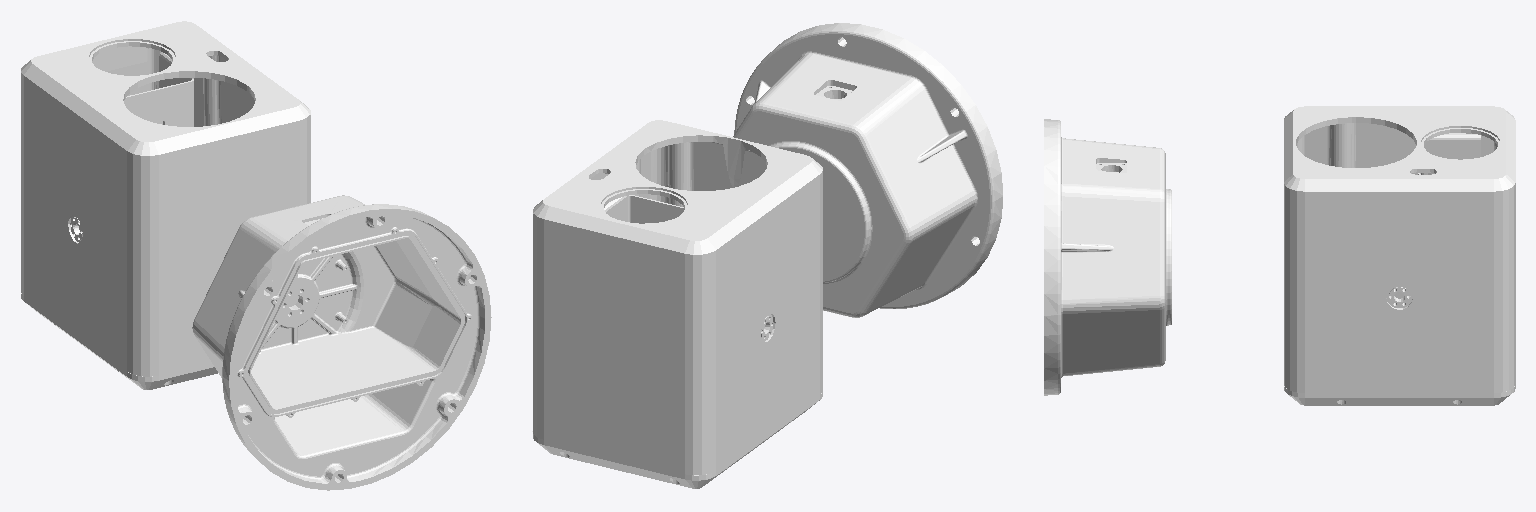
The robot description file, URDF, robot "u_shaped_gimbal":
<?xml version="1.0" encoding="utf-8"?>
<!-- This URDF was automatically created by SolidWorks to URDF Exporter! Originally created by [author] ([email redacted]) 
    Commit Version: 1.6.0-1-g15f4949  Build Version: 1.6.7594.29634
    For more information, please see http://wiki.ros.org/sw_urdf_exporter -->
<robot name="u_shaped_gimbal">
  <link name="base_link">
    <inertial>
      <origin xyz="-5.1149E-05 0.060823 -0.0052465" rpy="0 0 0" />
      <mass value="0.94384" />
      <inertia ixx="0.0055172" ixy="2.4725E-06" ixz="-3.088E-06" iyy="0.008072" iyz="4.4757E-05" izz="0.0055356" />
    </inertial>
    <visual>
      <origin xyz="0 0 0" rpy="0 0 0" />
      <geometry>
        <mesh filename="package://u_shaped_gimbal_description/meshes/base_link.STL" />
      </geometry>
      <material name="">
        <color rgba="1 1 1 1" />
      </material>
    </visual>
    <collision>
      <origin xyz="0 0 0" rpy="0 0 0" />
      <geometry>
        <mesh filename="package://u_shaped_gimbal_description/meshes/base_link.STL" />
      </geometry>
    </collision>
  </link>
  <link name="link_low">
    <inertial>
      <origin xyz="3.7576E-07 0.10889 4.3526E-05" rpy="0 0 0" />
      <mass value="1.7017" />
      <inertia ixx="0.01372" ixy="-2.5357E-06" ixz="4.585E-06" iyy="0.010361" iyz="2.6097E-06" izz="0.016475" />
    </inertial>
    <visual>
      <origin xyz="0 0 0" rpy="0 0 0" />
      <geometry>
        <mesh filename="package://u_shaped_gimbal_description/meshes/link_low.STL" />
      </geometry>
      <material name="">
        <color rgba="1 1 1 1" />
      </material>
    </visual>
    <collision>
      <origin xyz="0 0 0" rpy="0 0 0" />
      <geometry>
        <mesh filename="package://u_shaped_gimbal_description/meshes/link_low.STL" />
      </geometry>
    </collision>
  </link>
  <joint name="joint_low" type="continuous">
    <origin xyz="0 0.121 0" rpy="0 0 0" />
    <parent link="base_link" />
    <child link="link_low" />
    <axis xyz="0 1 0" />
  </joint>
  <link name="link_up">
    <inertial>
      <origin xyz="-7.4103E-05 0.0014057 0.0058493" rpy="0 0 0" />
      <mass value="2.2137" />
      <inertia ixx="0.021433" ixy="3.6375E-06" ixz="1.5475E-05" iyy="0.017841" iyz="-0.00011134" izz="0.023689" />
    </inertial>
    <visual>
      <origin xyz="0 0 0" rpy="0 0 0" />
      <geometry>
        <mesh filename="package://u_shaped_gimbal_description/meshes/link_up.STL" />
      </geometry>
      <material name="">
        <color rgba="1 1 1 1" />
      </material>
    </visual>
    <collision>
      <origin xyz="0 0 0" rpy="0 0 0" />
      <geometry>
        <mesh filename="package://u_shaped_gimbal_description/meshes/link_up.STL" />
      </geometry>
    </collision>
  </link>
  <joint name="joint_up" type="continuous">
    <origin xyz="0 0.216 0" rpy="0 0 0" />
    <parent link="link_low" />
    <child link="link_up" />
    <axis xyz="1 0 0" />
  </joint>
  <link name="link_middle">
    <inertial>
      <origin xyz="-7.7389E-19 0.018017 0.0039837" rpy="0 0 0" />
      <mass value="0.052872" />
      <inertia ixx="0.00010465" ixy="6.7864E-21" ixz="-1.8431E-20" iyy="0.00014676" iyz="-2.558E-06" izz="8.2918E-05" />
    </inertial>
    <visual>
      <origin xyz="0 0 0" rpy="0 0 0" />
      <geometry>
        <mesh filename="package://u_shaped_gimbal_description/meshes/link_middle.STL" />
      </geometry>
      <material name="">
        <color rgba="1 1 1 1" />
      </material>
    </visual>
    <collision>
      <origin xyz="0 0 0" rpy="0 0 0" />
      <geometry>
        <mesh filename="package://u_shaped_gimbal_description/meshes/link_middle.STL" />
      </geometry>
    </collision>
  </link>
  <joint name="joint_middle" type="fixed">
    <origin xyz="0 0.019 0.040277" rpy="0 0 0" />
    <parent link="link_up" />
    <child link="link_middle" />
    <axis xyz="0 0 0" />
  </joint>
  <link name="link_front">
    <inertial>
      <origin xyz="2.0026E-18 0.018017 -0.060739" rpy="0 0 0" />
      <mass value="0.052872" />
      <inertia ixx="0.00010465" ixy="1.1765E-20" ixz="-9.3597E-21" iyy="0.00014676" iyz="-2.558E-06" izz="8.2918E-05" />
    </inertial>
    <visual>
      <origin xyz="0 0 0" rpy="0 0 0" />
      <geometry>
        <mesh filename="package://u_shaped_gimbal_description/meshes/link_front.STL" />
      </geometry>
      <material name="">
        <color rgba="1 1 1 1" />
      </material>
    </visual>
    <collision>
      <origin xyz="0 0 0" rpy="0 0 0" />
      <geometry>
        <mesh filename="package://u_shaped_gimbal_description/meshes/link_front.STL" />
      </geometry>
    </collision>
  </link>
  <joint name="joint_front" type="fixed">
    <origin xyz="0 0.019 0.105" rpy="0 0 0" />
    <parent link="link_up" />
    <child link="link_front" />
    <axis xyz="0 0 0" />
  </joint>
</robot>

--- Render facts (derived) ---
3 views of the same robot in one strip: view 1: azimuth 30°, elevation 25°; view 2: azimuth 150°, elevation 25°; view 3: azimuth 270°, elevation 25° (orthographic).
Robot: u_shaped_gimbal — 5 links, 4 joints (2 continuous, 2 fixed); root link base_link; default pose: every joint at zero.
Visible links, largest first — view 1: link_up, base_link; view 2: link_up, base_link; view 3: link_up, base_link.
Link boxes in pixels (box(x1,y1,x2,y2)): link_up: box(21, 21, 310, 389); base_link: box(192, 195, 491, 490); link_up: box(532, 120, 822, 488); base_link: box(733, 23, 1002, 317); link_up: box(1284, 106, 1515, 405); base_link: box(1044, 119, 1171, 395).
Bounding box of the posed robot: 0.2628 × 0.447 × 0.2619 m (x, y, z).
Meshes: 5 distinct files referenced, 4 mesh visuals loaded (4 binary STL); not drawn: 1 (reference not matched to a file when rendering).